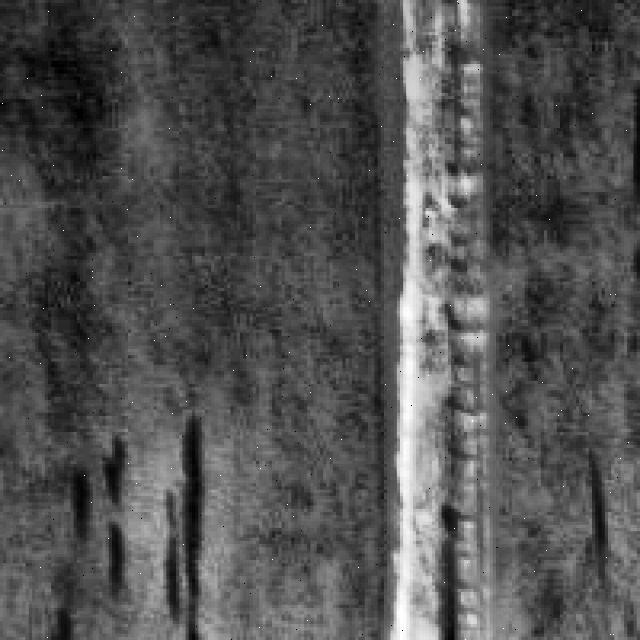Inclusion: (400, 0, 509, 634)
Patches: (163, 410, 218, 614), (74, 426, 134, 586), (579, 460, 621, 570)
